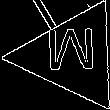M_S: (45, 30, 99, 83)
